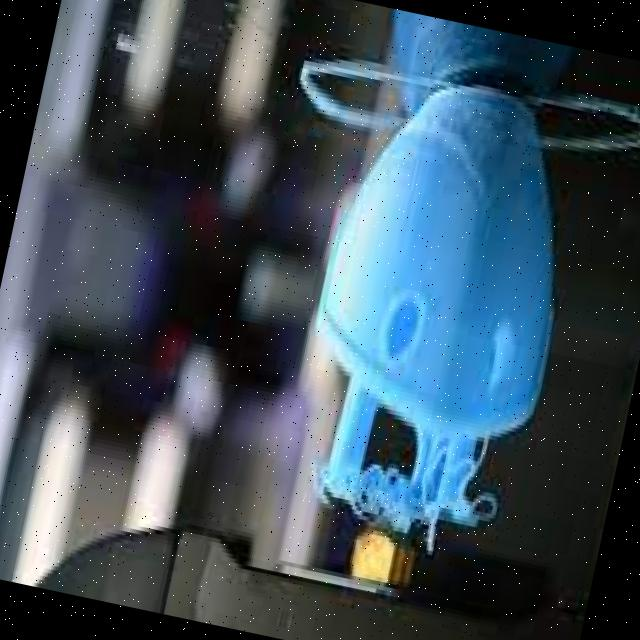spaghetti: (284, 410, 506, 571)
